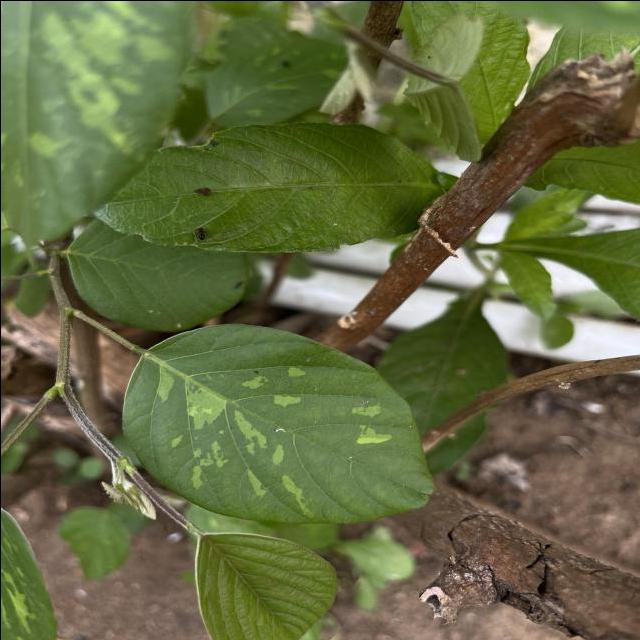Desmodium gangeticum: (119, 319, 438, 526)
